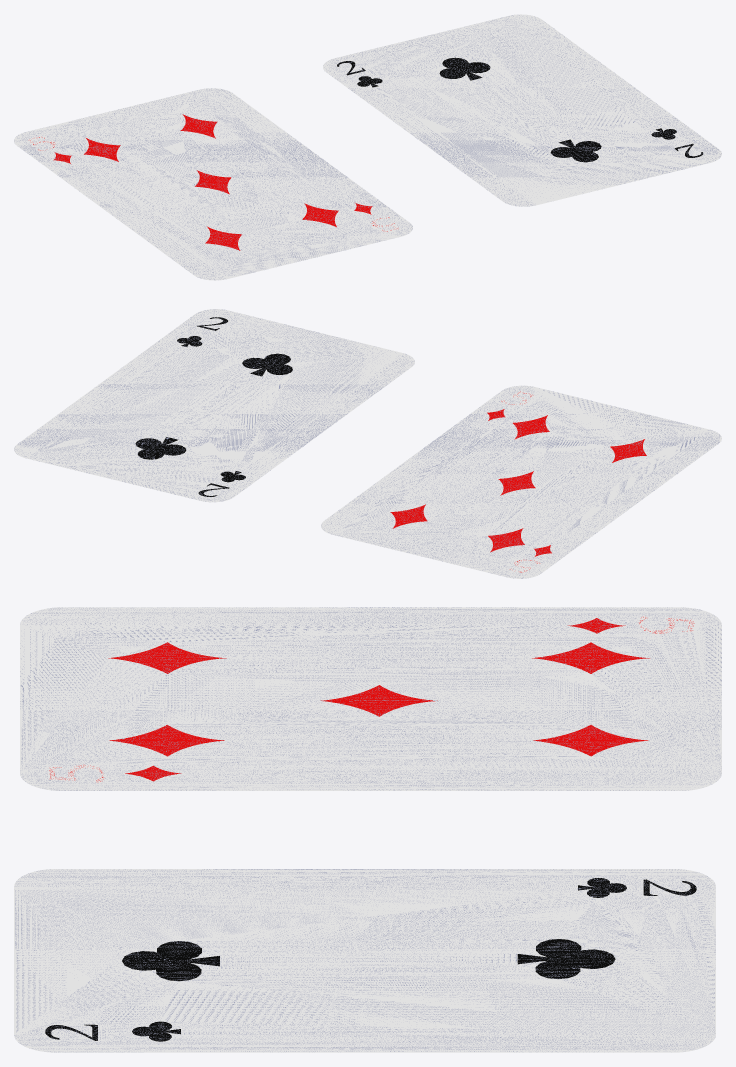
File: 2cards.dae
3 renders of one model, top to bottom at view 1: azimuth 30°, elevation 25°; view 2: azimuth 150°, elevation 25°; view 3: azimuth 270°, elevation 25°, orthographic. The views are drawn at different scales.
Visible parts, largest first — view 1: SketchUp (×9); view 2: SketchUp (×9); view 3: SketchUp (×9).
Boxes of the visible parts, bbox=[...] form: SketchUp (×9): bbox=[14, 14, 721, 280]; SketchUp (×9): bbox=[14, 309, 721, 578]; SketchUp (×9): bbox=[14, 607, 721, 1052].
Bounding box in the file's own units: 398 × 267 × 0.
